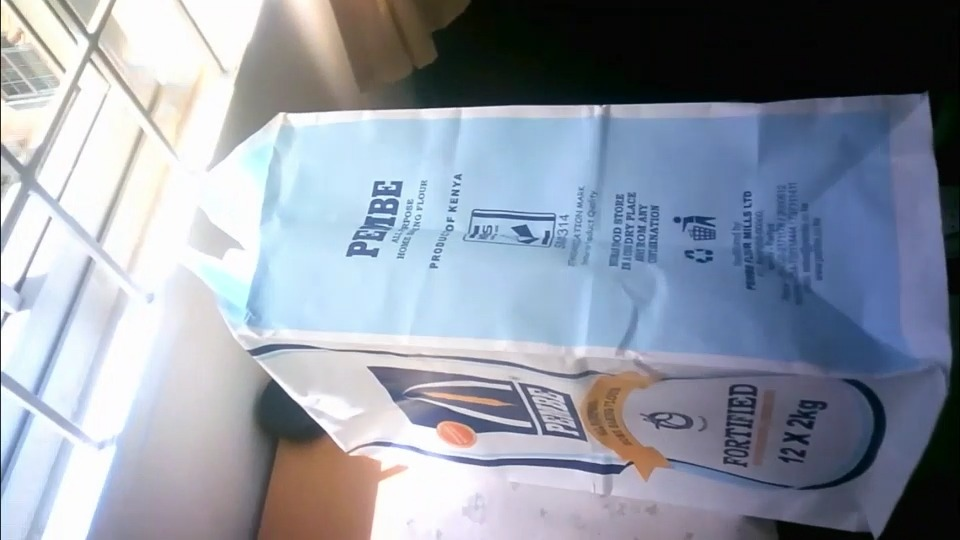wheat_flour_blue_label: (208, 92, 948, 536)
